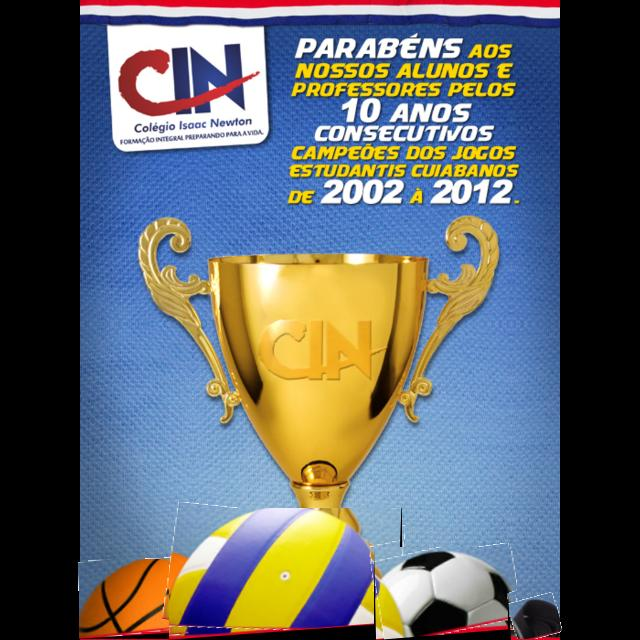Football: (169, 508, 402, 640), (374, 547, 517, 640), (79, 559, 193, 639), (508, 595, 560, 640)
